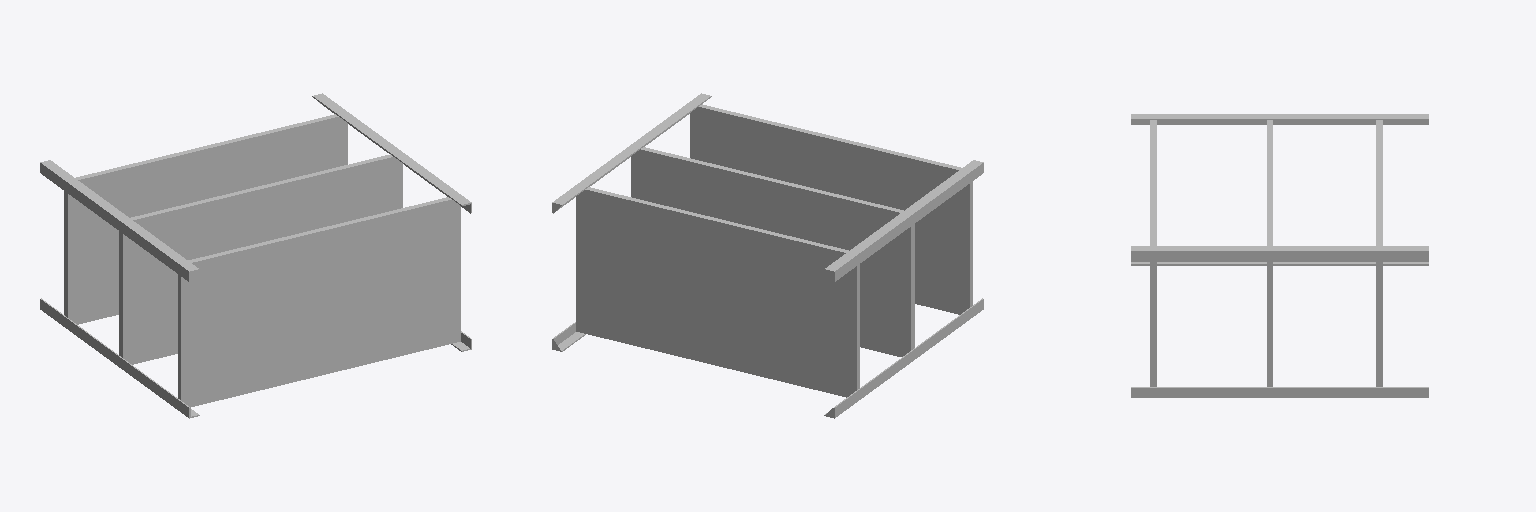
The picture shows the model from 3 angles: view 1: azimuth 30°, elevation 25°; view 2: azimuth 150°, elevation 25°; view 3: azimuth 270°, elevation 25°; orthographic projection.
Visible parts, largest first — view 1: legs; view 2: legs; view 3: legs.
Boxes of the visible parts, box(x1,y1,x2,y2) form: legs: box(40, 93, 471, 418); legs: box(552, 93, 983, 418); legs: box(1131, 114, 1428, 397).
Size of the model in its own units: 0.4056 by 0.2016 by 0.3709.